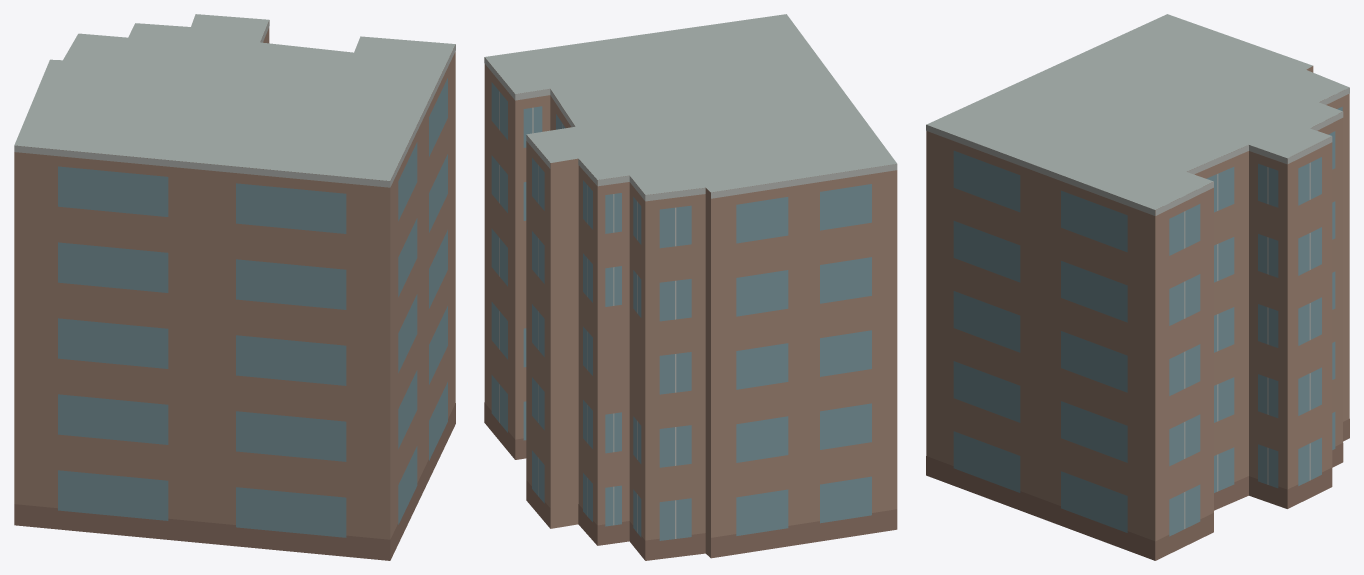
File: survey-upis-33020799.glb
3 renders of one model, left to right at view 1: azimuth 30°, elevation 25°; view 2: azimuth 150°, elevation 25°; view 3: azimuth 270°, elevation 25°, orthographic. The views are drawn at different scales.
Parts seen in each view (by area): view 1: survey-upis-33020799.tmp; view 2: survey-upis-33020799.tmp; view 3: survey-upis-33020799.tmp.
Part boxes in pixels (bbox=[...]): survey-upis-33020799.tmp: bbox=[14, 14, 455, 560]; survey-upis-33020799.tmp: bbox=[484, 14, 897, 560]; survey-upis-33020799.tmp: bbox=[926, 14, 1349, 560].
Size of the model in its own units: 16.85 by 14.05 by 15.38.
